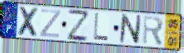L: (93, 13, 110, 43)
N: (118, 13, 143, 46)
R: (142, 14, 165, 47)
X: (17, 5, 41, 39)
Z: (67, 8, 89, 43), (39, 8, 62, 39)
